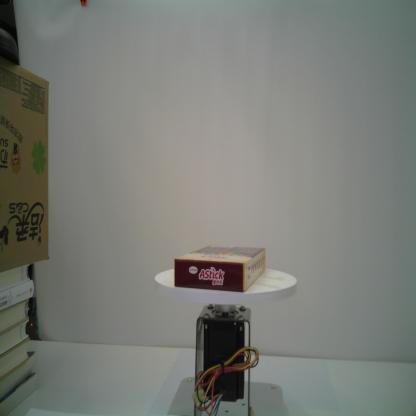Dessert: (174, 245, 266, 293)
